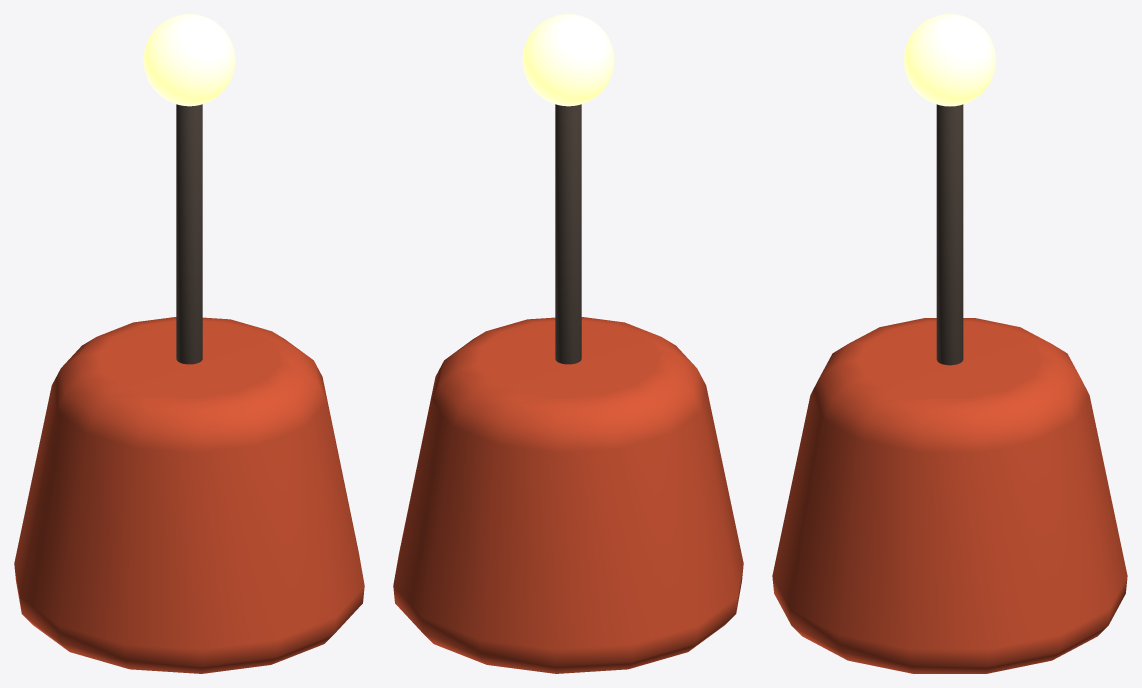
File: buoy_red.glb
3 renders of one model, left to right at view 1: azimuth 30°, elevation 25°; view 2: azimuth 150°, elevation 25°; view 3: azimuth 270°, elevation 25°, orthographic.
Visible parts, largest first — view 1: buoy, buoy_mast, buoy_light; view 2: buoy, buoy_mast, buoy_light; view 3: buoy, buoy_mast, buoy_light.
Boxes of the visible parts, bbox=[...] form: buoy: bbox=[14, 317, 364, 673]; buoy_mast: bbox=[176, 104, 202, 364]; buoy_light: bbox=[143, 14, 235, 106]; buoy: bbox=[393, 317, 743, 673]; buoy_mast: bbox=[555, 104, 581, 364]; buoy_light: bbox=[522, 14, 614, 106]; buoy: bbox=[772, 318, 1127, 673]; buoy_mast: bbox=[936, 104, 963, 365]; buoy_light: bbox=[903, 14, 996, 106].
Size of the model in its own units: 0.5241 by 0.99 by 0.5375.
